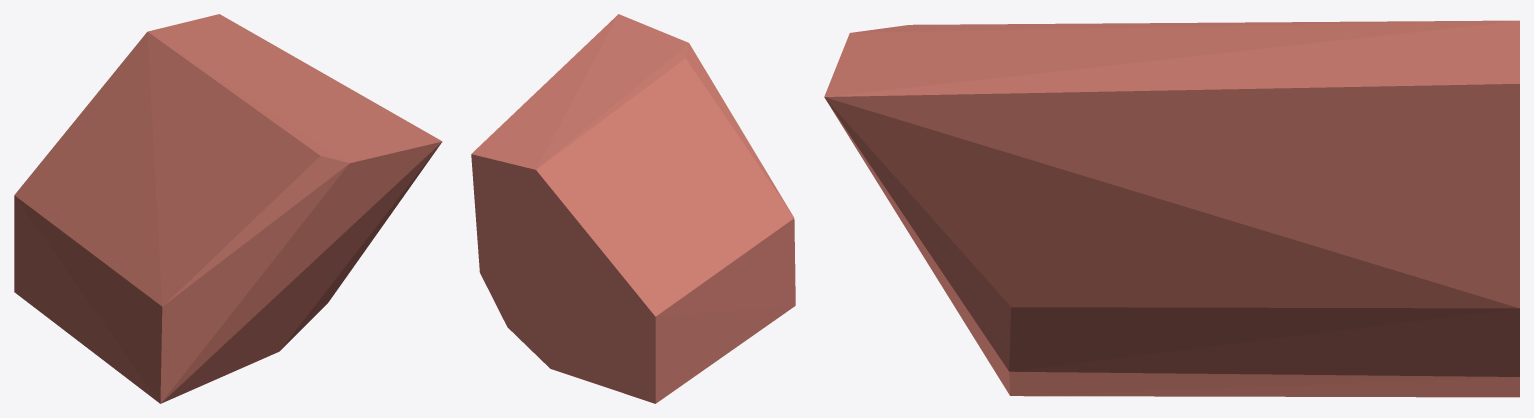
3 renders of one model, left to right at view 1: azimuth 30°, elevation 25°; view 2: azimuth 150°, elevation 25°; view 3: azimuth 270°, elevation 25°, orthographic. The views are drawn at different scales.
Bounding box in the file's own units: 0.9966 × 0.9342 × 1.39.
